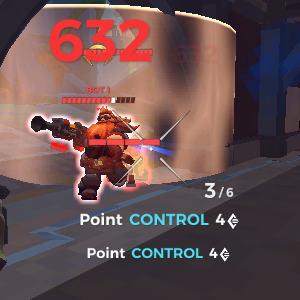model: (60, 106, 136, 208)
